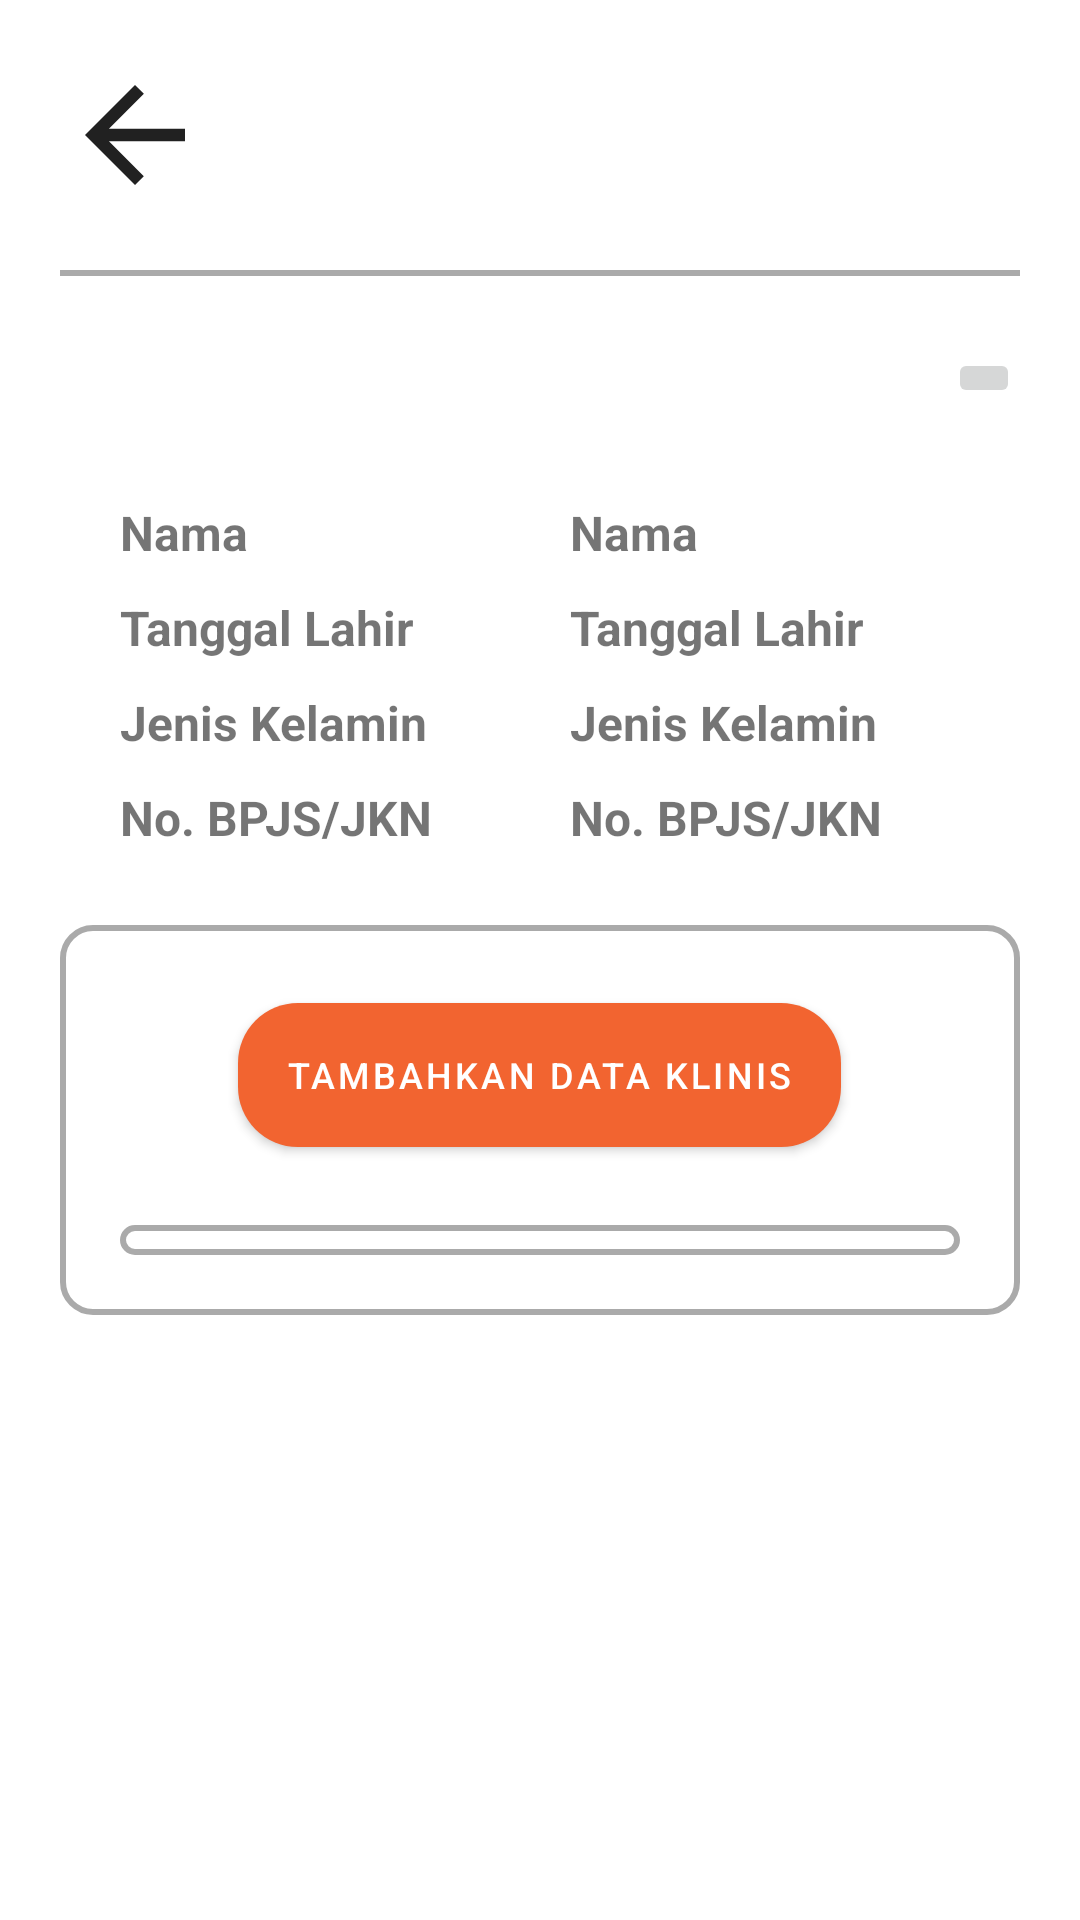

Named icons in this screenshot (1080w x 1920h) and their centers, [x,y]:
back: [135,135]
